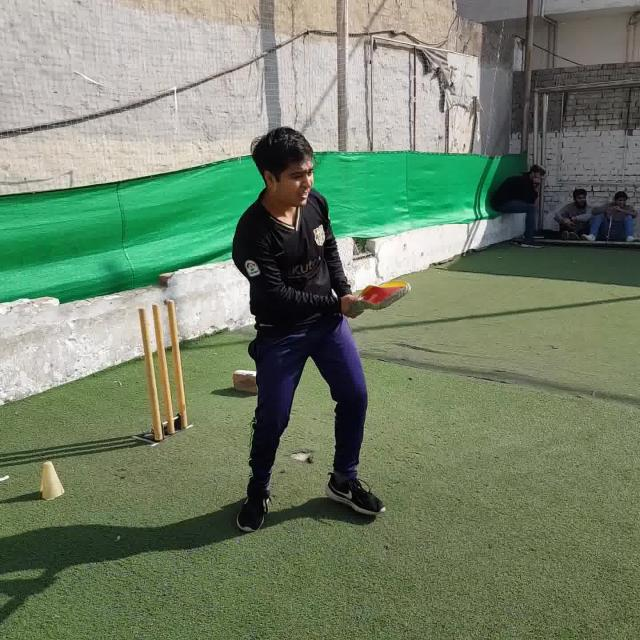bat: (346, 280, 412, 316)
